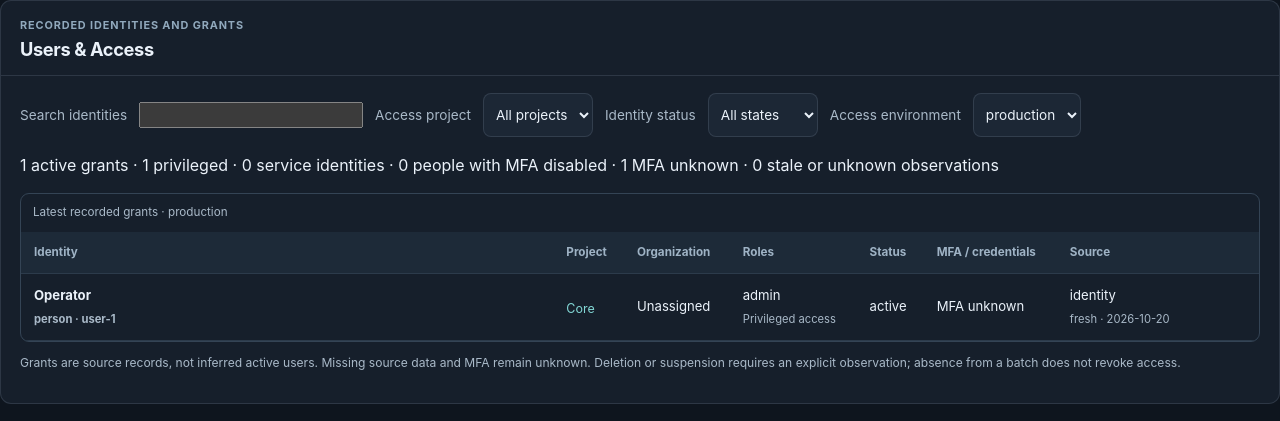
searches source identities while showing unknown MFA and explicit status
This screenshot has width=1280, height=421.
Check: the text "MFA unknown" is shown, box [924,274,1057,340]
In the search field labelled "Search identities": [251, 115] box [139,102,363,128], type "missing"
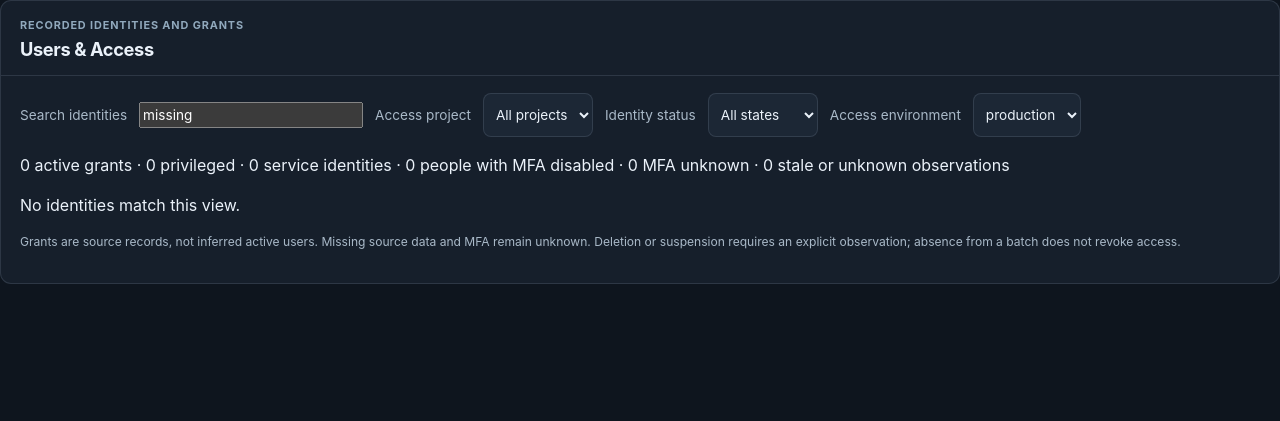
Check: the text "No identities match this view." is shown, box [20,195,240,215]
